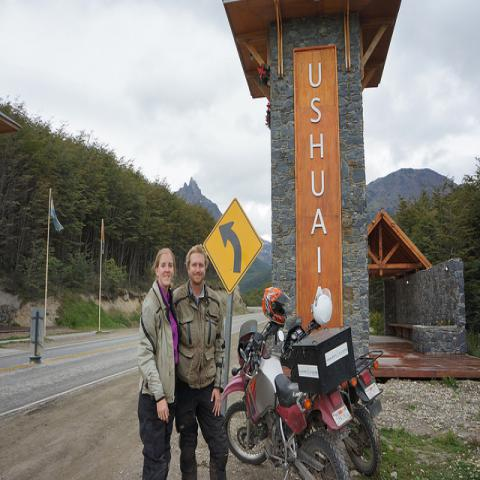motorcycle: (222, 286, 352, 479), (282, 297, 388, 474)
